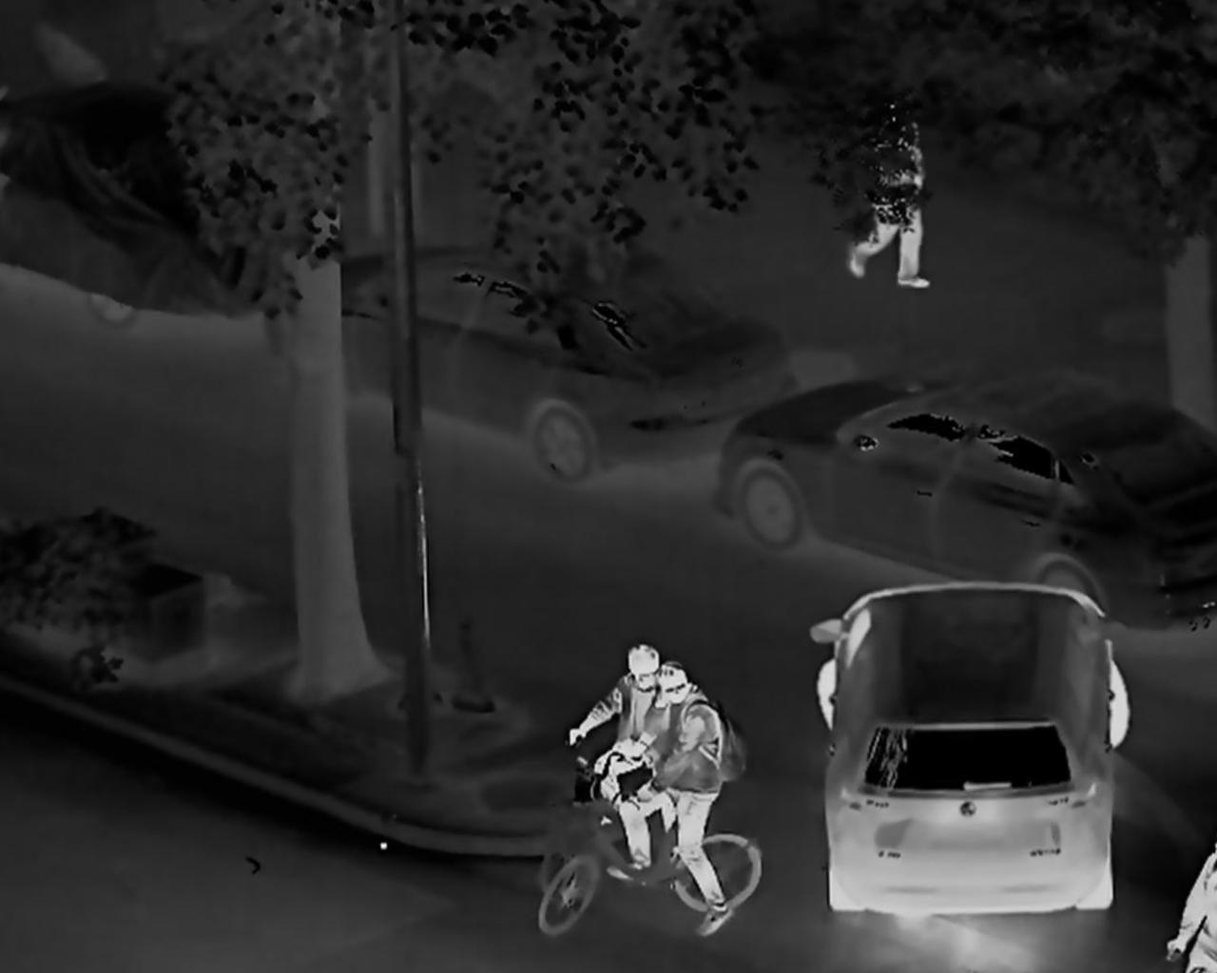person: (639, 665, 739, 937), (563, 627, 668, 845), (833, 81, 934, 299)
